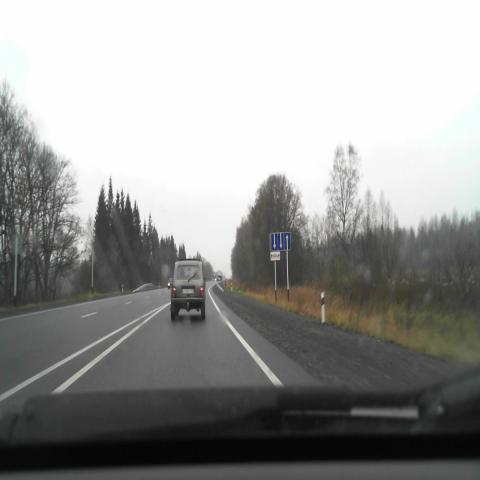5_15_7: (270, 232, 291, 251)
